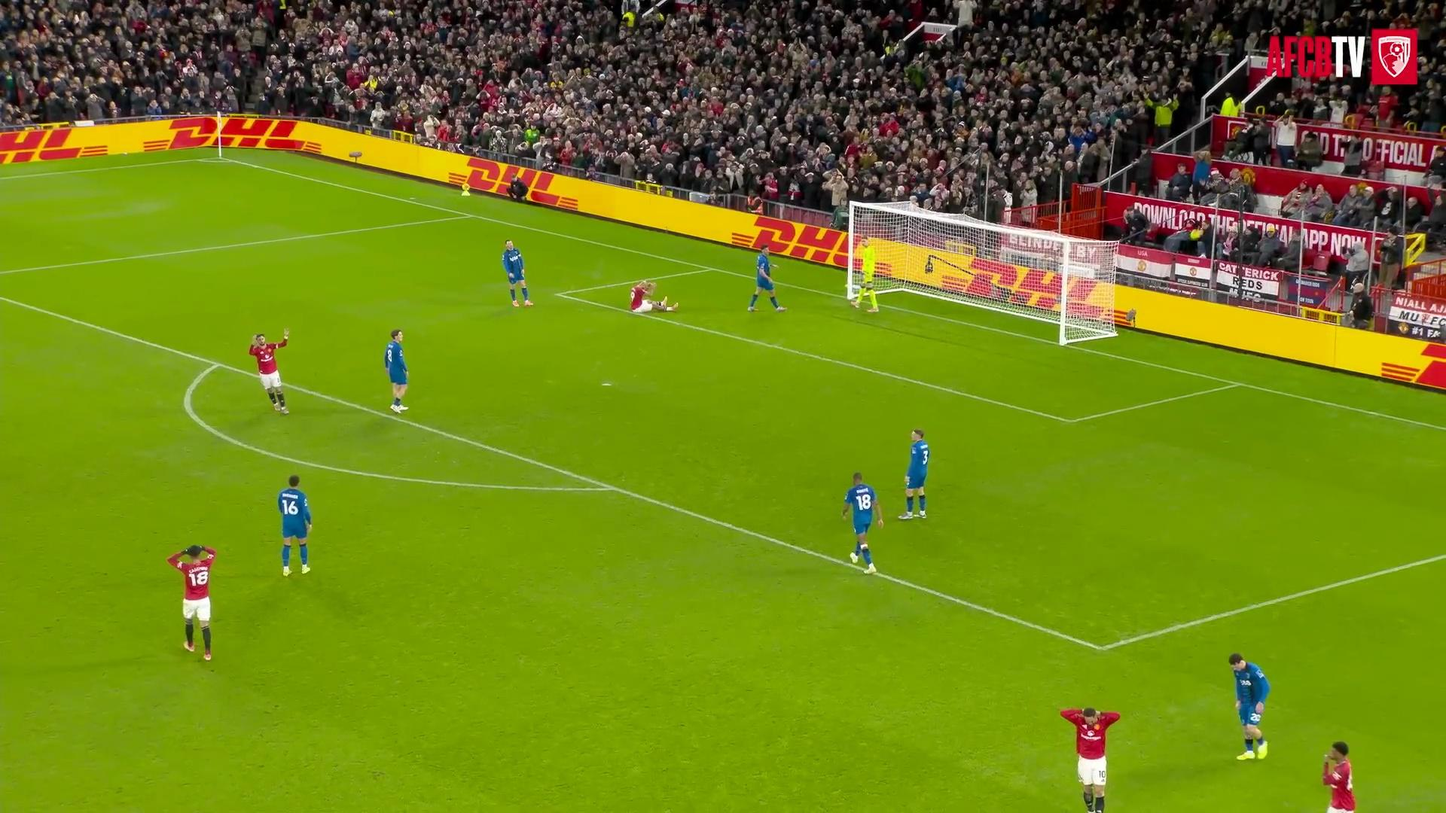player: (1060, 708, 1120, 812), (167, 545, 215, 660), (1229, 653, 1270, 760), (277, 474, 312, 575), (843, 473, 877, 573), (249, 329, 288, 413), (899, 429, 929, 519), (749, 245, 786, 312), (1322, 742, 1355, 812), (502, 239, 532, 306), (851, 236, 877, 312), (384, 330, 407, 413), (630, 280, 677, 312)
